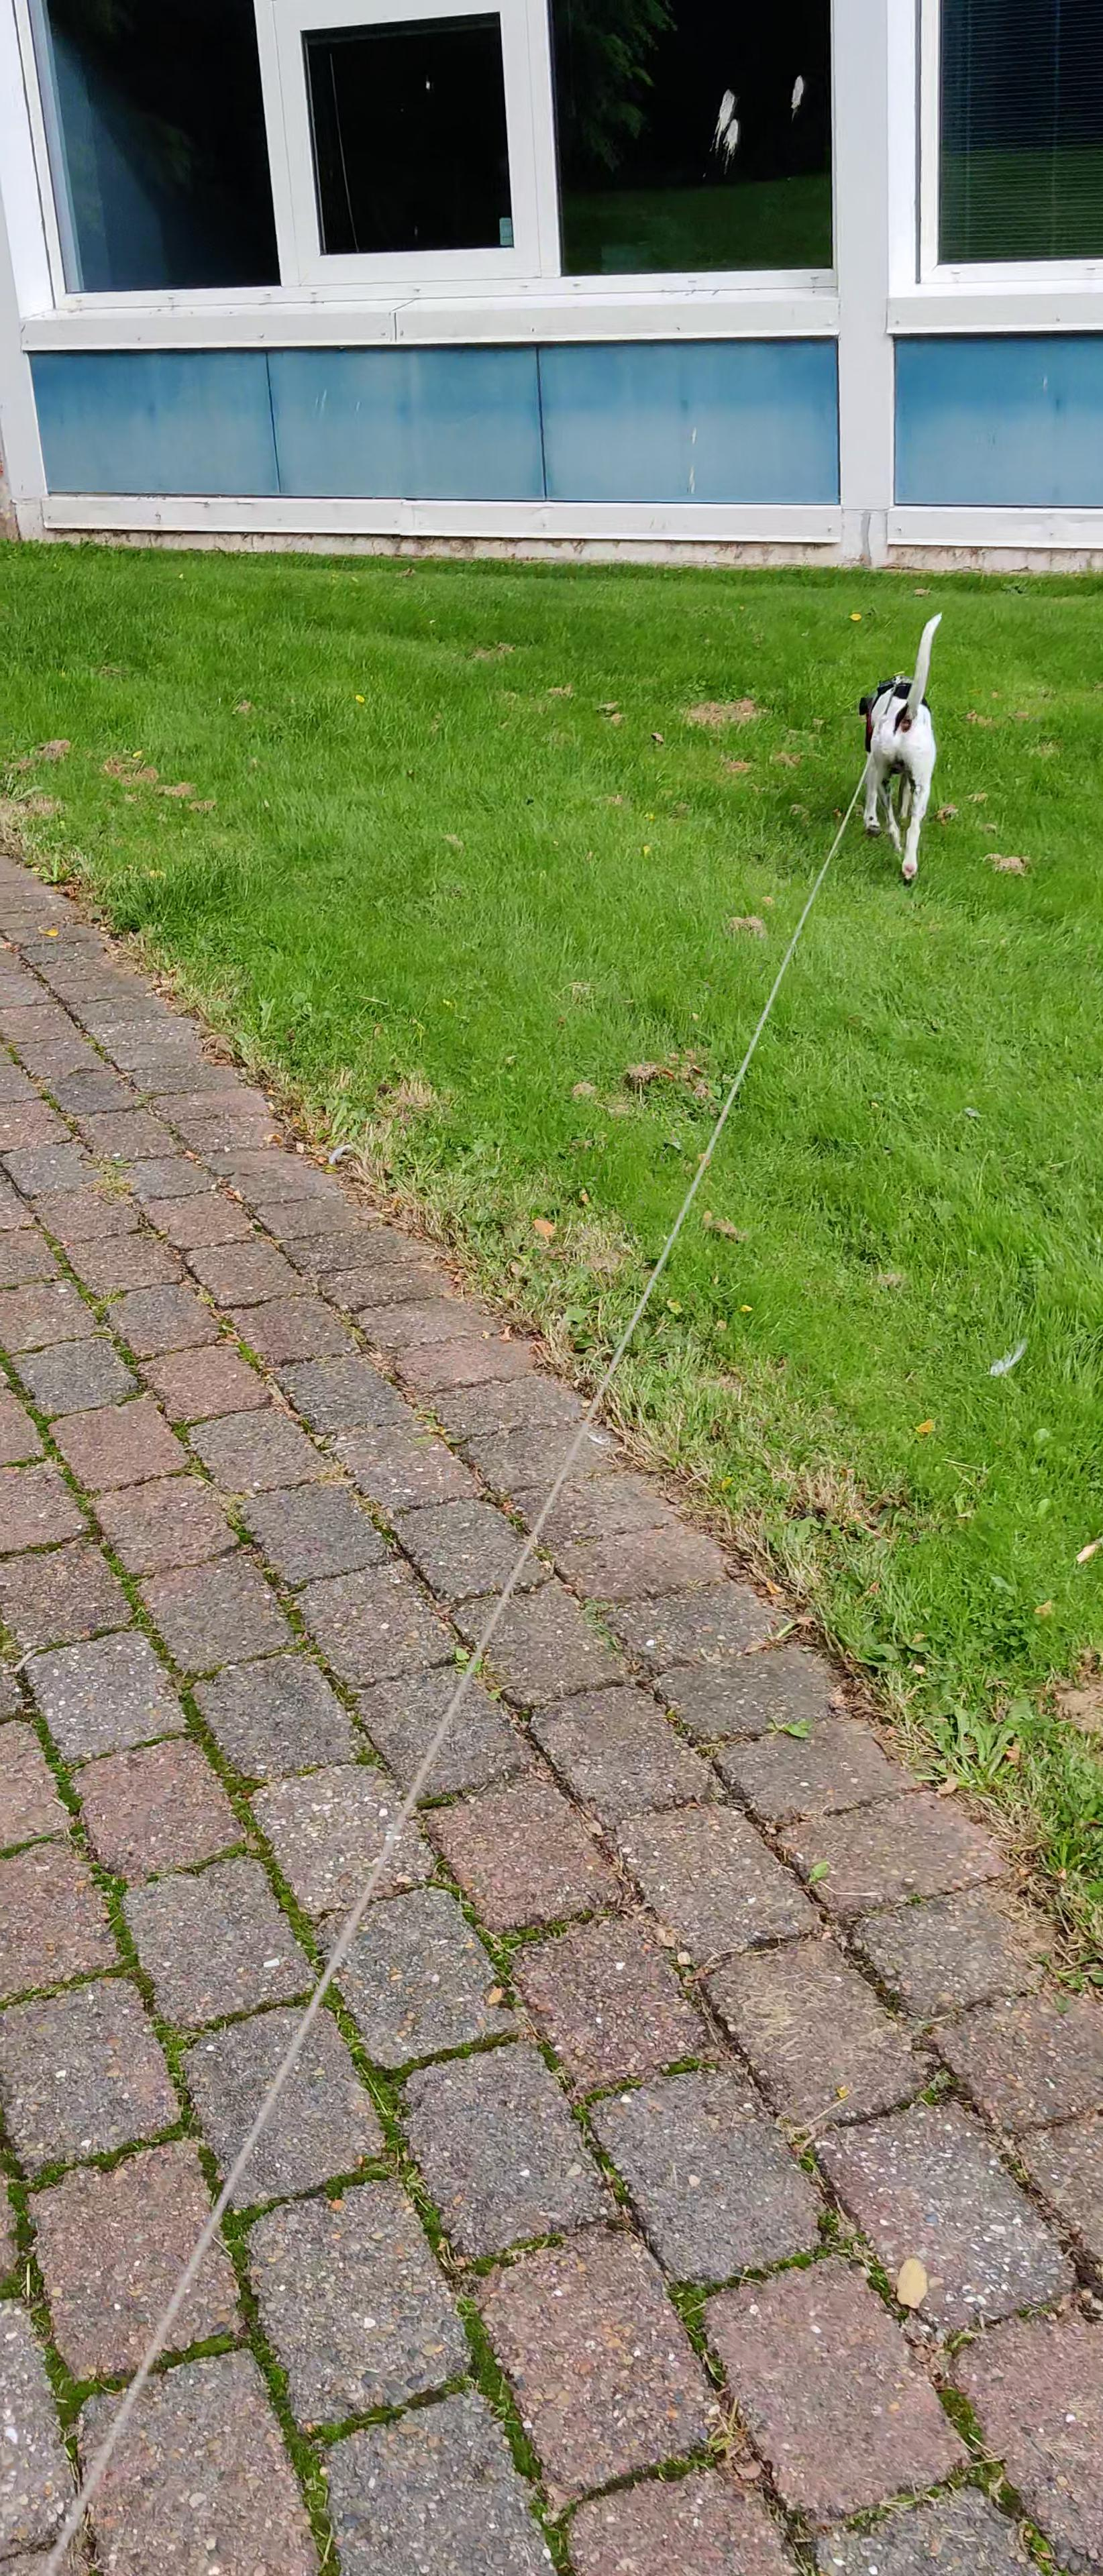Dog: (840, 598, 975, 907)
